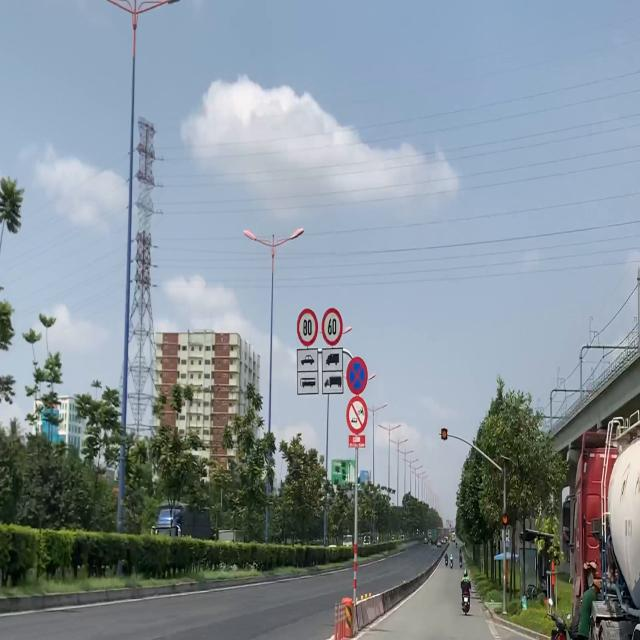Cam con lai: (344, 396, 368, 434)
Cam dung va do: (346, 356, 368, 395)
Toc do toi da: (296, 307, 319, 347), (321, 307, 343, 347)
